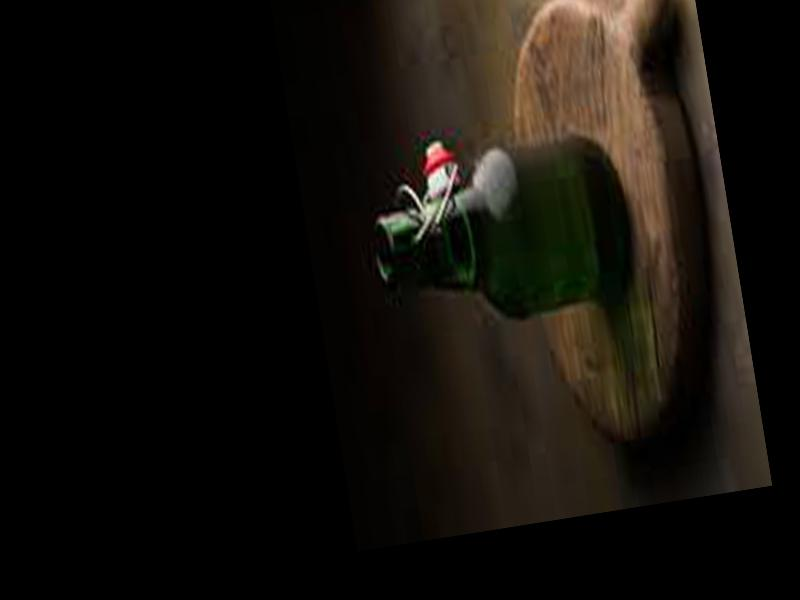Beer: (359, 131, 633, 333)
